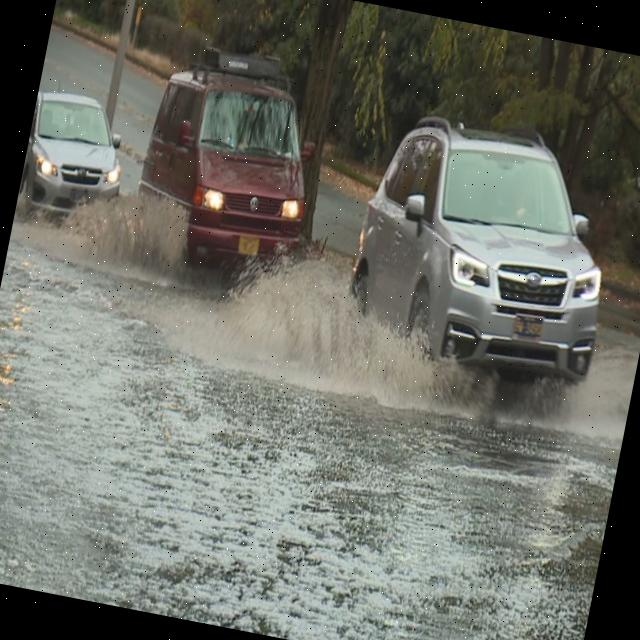car: (334, 101, 637, 406), (126, 45, 330, 294), (15, 86, 136, 230)
